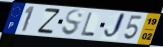1: (21, 6, 36, 33)
5: (123, 14, 143, 41)
J: (102, 12, 127, 40)
L: (80, 12, 96, 38)
S: (60, 9, 84, 37)
Z: (36, 8, 62, 35)
